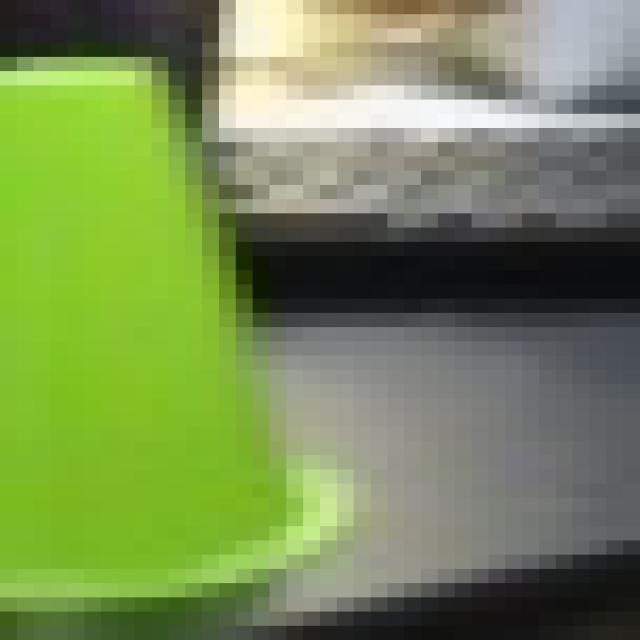cono: (0, 42, 354, 626)
